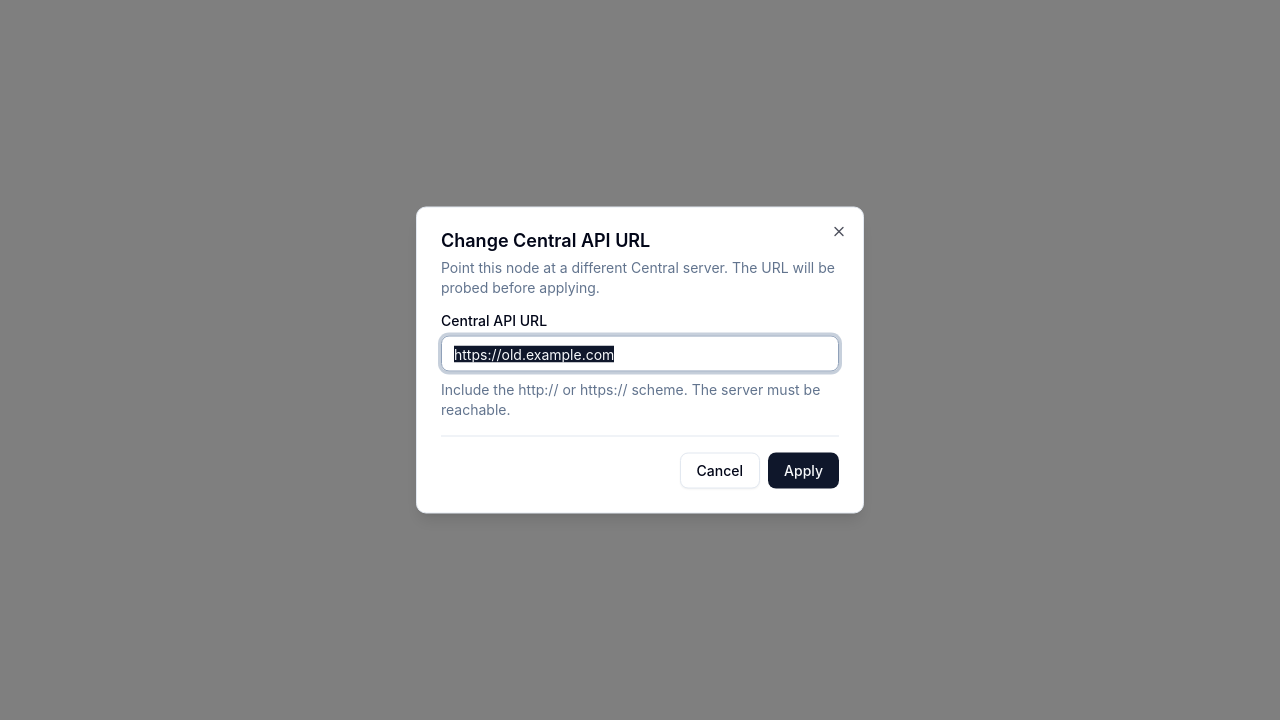
it: changeCentralUrlDialog › rejects URLs without http/https scheme
The image size is (1280, 720).
Replace the text in the field labelled "Central API URL" with "ftp://central.example.com": (640, 354) left=441, top=336, right=839, bottom=372
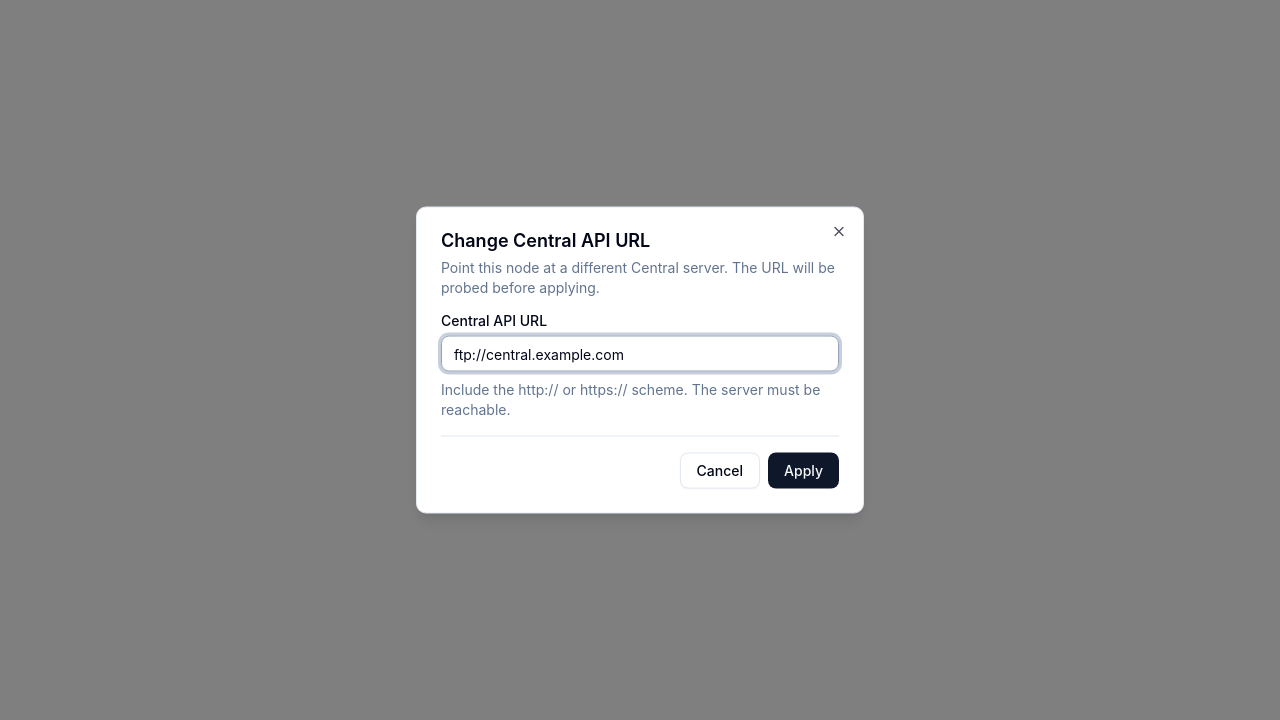
Click the button "Apply": click(804, 470) left=768, top=452, right=839, bottom=488
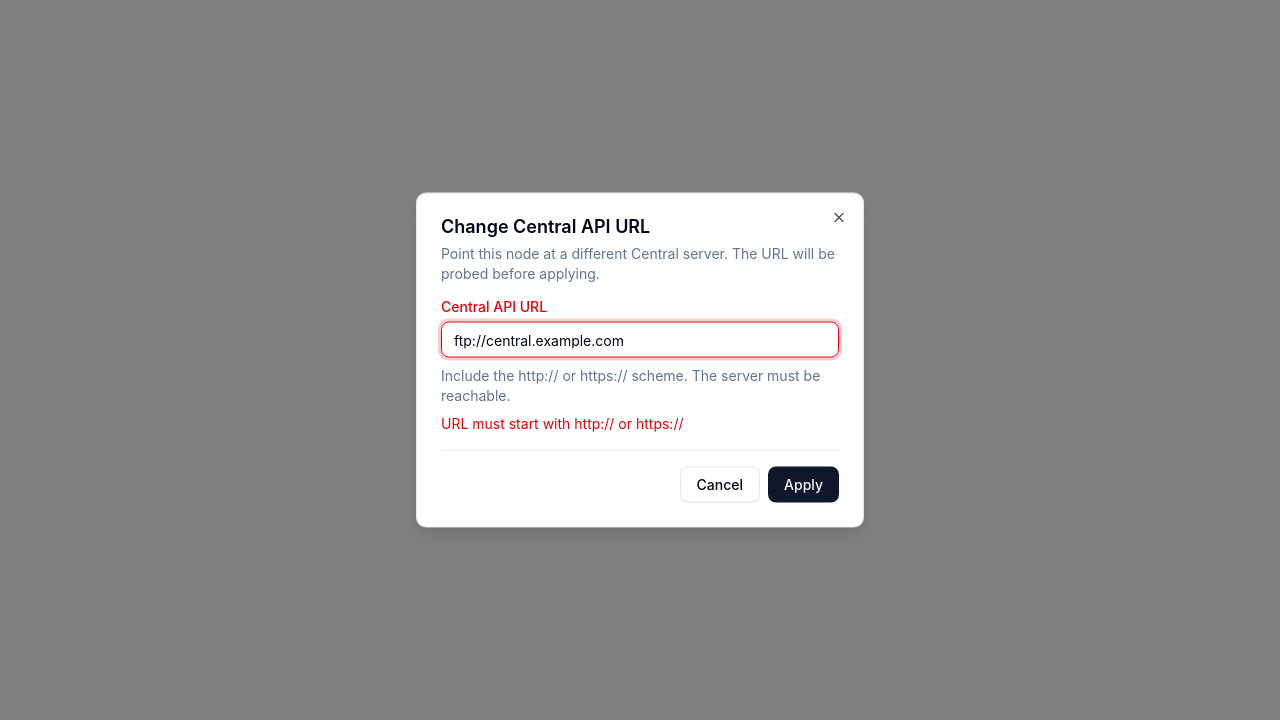
Check: the text "URL must start with http:// or https://" is shown, box left=441, top=414, right=684, bottom=432
